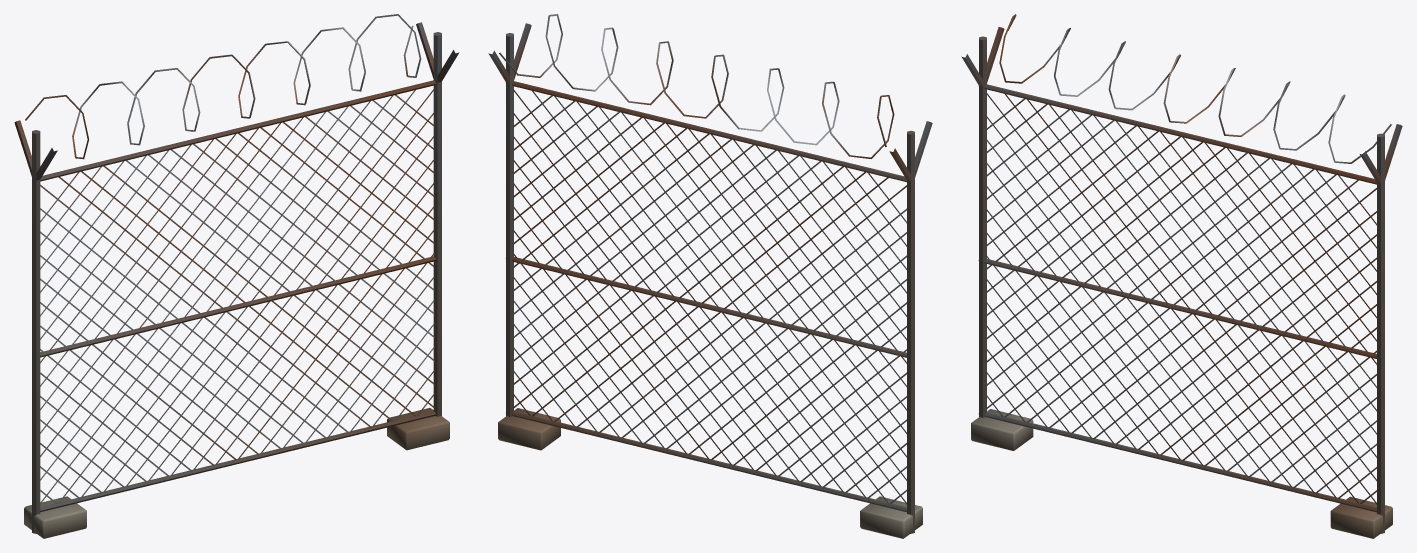
Rendered from chain_fence.glb.
3 views of the same model, side by side, from view 1: azimuth 30°, elevation 25°; view 2: azimuth 150°, elevation 25°; view 3: azimuth 330°, elevation 25° (orthographic).
Parts seen in each view (by area): view 1: ChainFence; view 2: ChainFence; view 3: ChainFence.
Boxes of the visible parts, box(x1,y1,x2,y2) form: ChainFence: box(14, 14, 459, 538); ChainFence: box(488, 14, 932, 538); ChainFence: box(961, 14, 1402, 538).
Bounding box in the file's own units: 4.02 × 4.03 × 0.6718.
